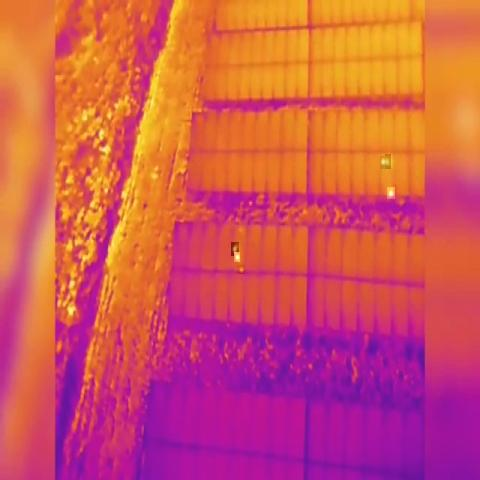fault: (231, 242, 239, 256), (387, 187, 395, 199), (380, 156, 386, 169), (386, 154, 391, 169), (237, 265, 245, 274), (234, 252, 240, 262)
